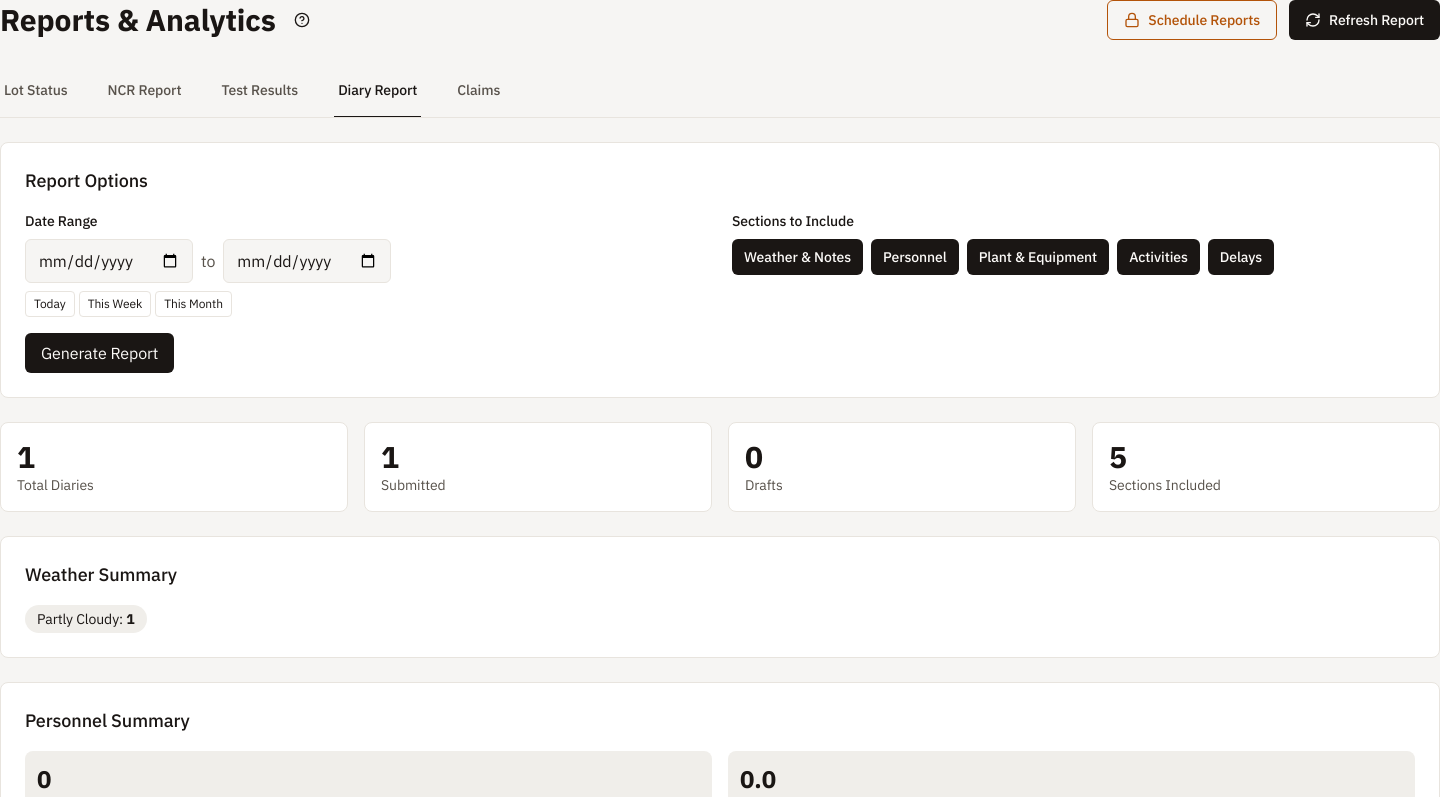
Test: ReportsPage subscription tier gates › shows the upgrade prompt instead of the schedule modal on the basic tier
expect the text "Total Diaries" is shown: met, box [17, 476, 94, 494]
Click the button "Schedule Reports" at (1192, 20), box [1107, 0, 1277, 40]
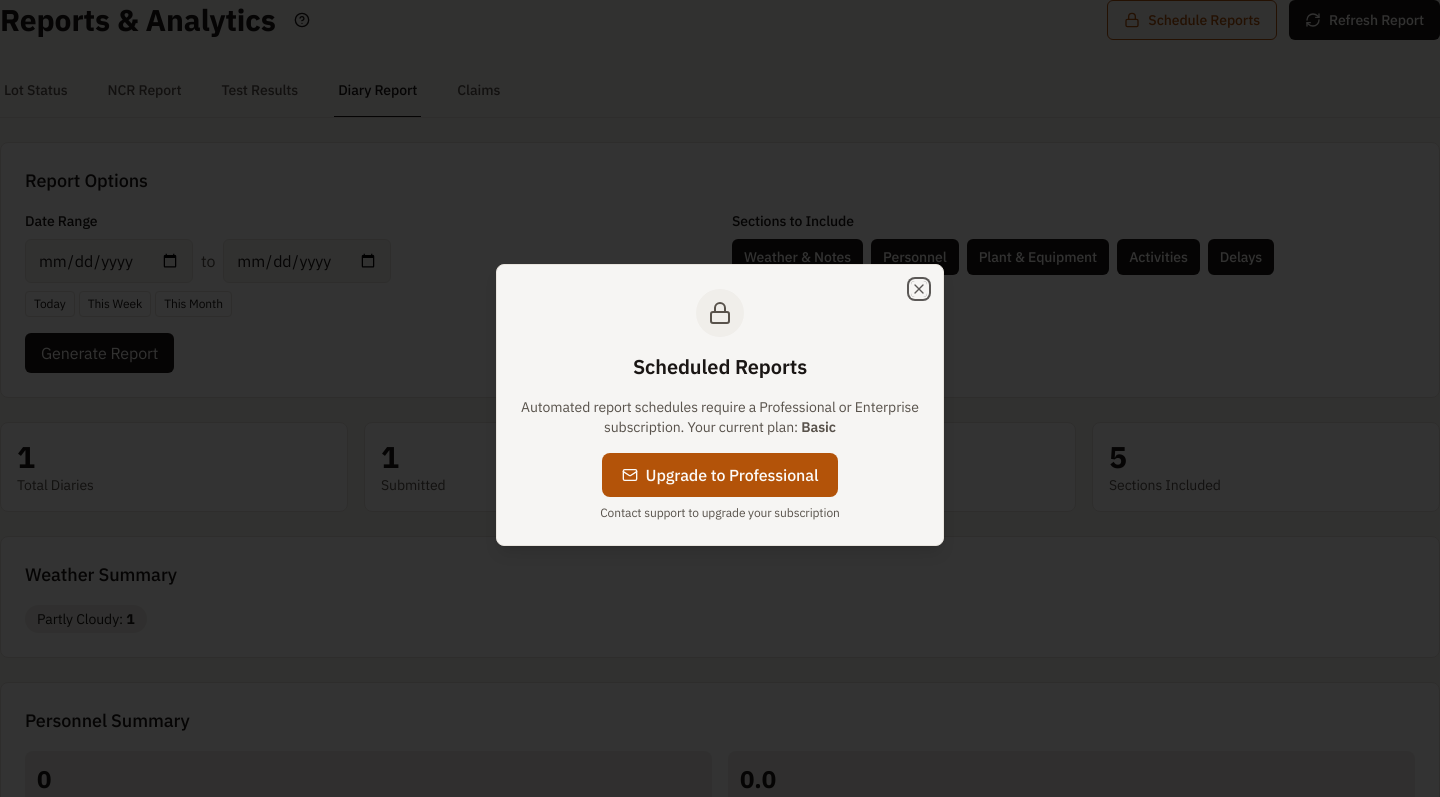
expect the text "require a Professional or Enterprise subscription" is shown: met, box [521, 398, 919, 436]
